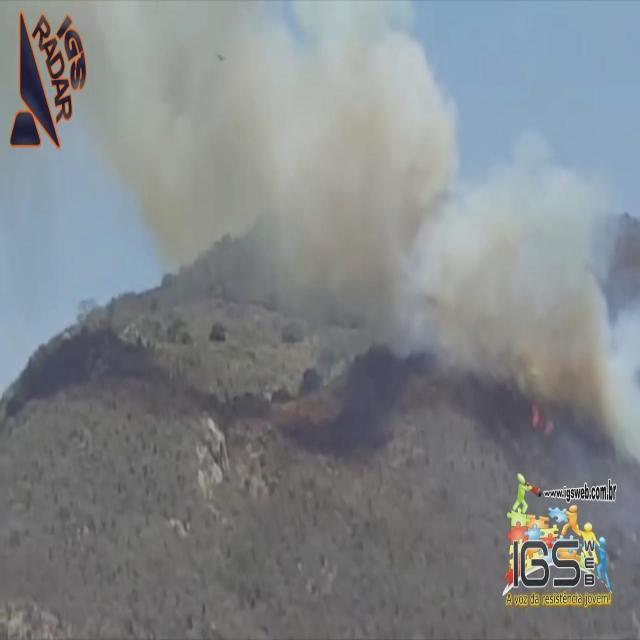Fire: (528, 405, 552, 433)
